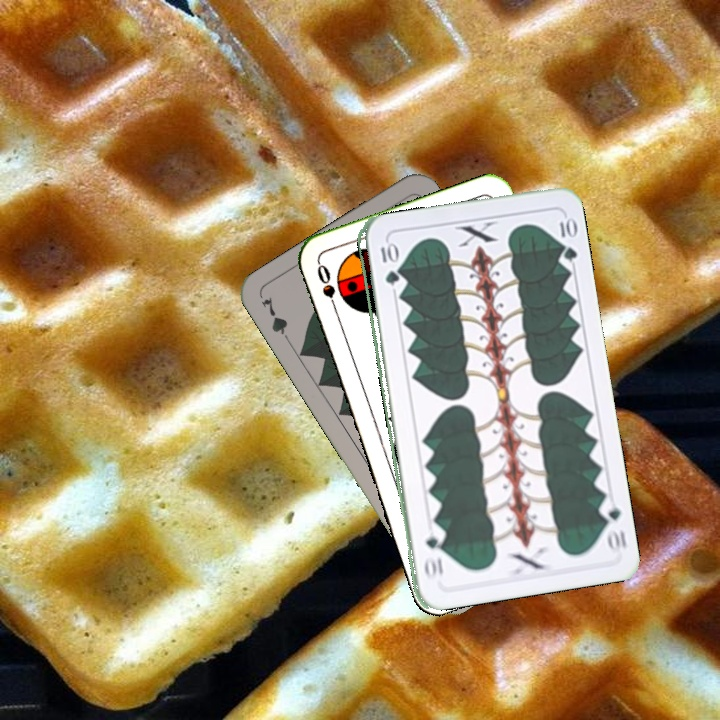G10: (595, 496, 629, 556), (376, 239, 398, 289)
G7: (257, 293, 295, 348)
SO: (313, 259, 341, 316)
